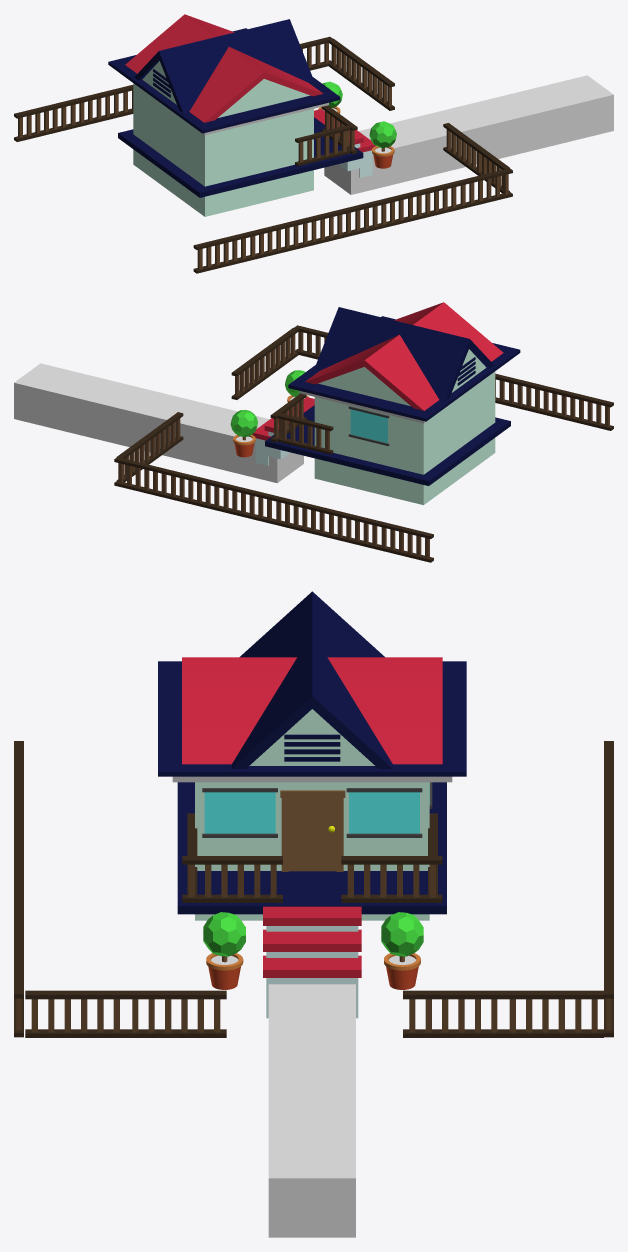
Rendered from casitaexport.dae.
3 renders of one model, top to bottom at view 1: azimuth 30°, elevation 25°; view 2: azimuth 150°, elevation 25°; view 3: azimuth 270°, elevation 25°, orthographic. The views are drawn at different scales.
Visible parts, largest first — view 1: Cube.4, Cube.2, Cube.5 (×3), Cube.3, Cube, Cube.9, Platonic, Cube.1; view 2: Cube.4, Cube.5 (×3), Cube.2, Cube.3, Cube, Cube.9, Cube.7, Platonic, Cube.1; view 3: Cube.5 (×6), Cube.4 (×2), Cube.3, Cube, Cube.2, Cube.7 (×2), Cube.5_1 (×6), Cube.6, Platonic (×2), Cube.1.
Part boxes in pixels (<box>): Cube.4: <box>324,75,613,194</box>; Cube.2: <box>133,83,313,216</box>; Cube.5 (×3): <box>125,14,323,122</box>; Cube.3: <box>118,117,363,197</box>; Cube: <box>108,28,340,133</box>; Cube.9: <box>218,79,310,117</box>; Platonic: <box>369,121,396,148</box>; Cube.1: <box>121,74,328,135</box>; Cube.4: <box>14,363,303,483</box>; Cube.5 (×3): <box>305,302,503,410</box>; Cube.2: <box>314,371,495,505</box>; Cube.3: <box>265,405,510,485</box>; Cube: <box>288,316,520,421</box>; Cube.9: <box>318,367,410,406</box>; Cube.7: <box>350,409,387,443</box>; Platonic: <box>230,410,257,436</box>; Cube.1: <box>299,363,505,423</box>; Cube.5 (×6): <box>182,591,442,977</box>; Cube.4 (×2): <box>266,978,358,1237</box>; Cube.3: <box>177,782,446,914</box>; Cube: <box>158,661,466,776</box>; Cube.2: <box>195,782,429,920</box>; Cube.7 (×2): <box>204,792,419,833</box>; Cube.5_1 (×6): <box>25,856,603,999</box>; Cube.6: <box>288,798,336,871</box>; Platonic (×2): <box>203,912,423,956</box>; Cube.1: <box>172,776,452,782</box>.
Size of the model in its own units: 2861 by 983 by 1830.
